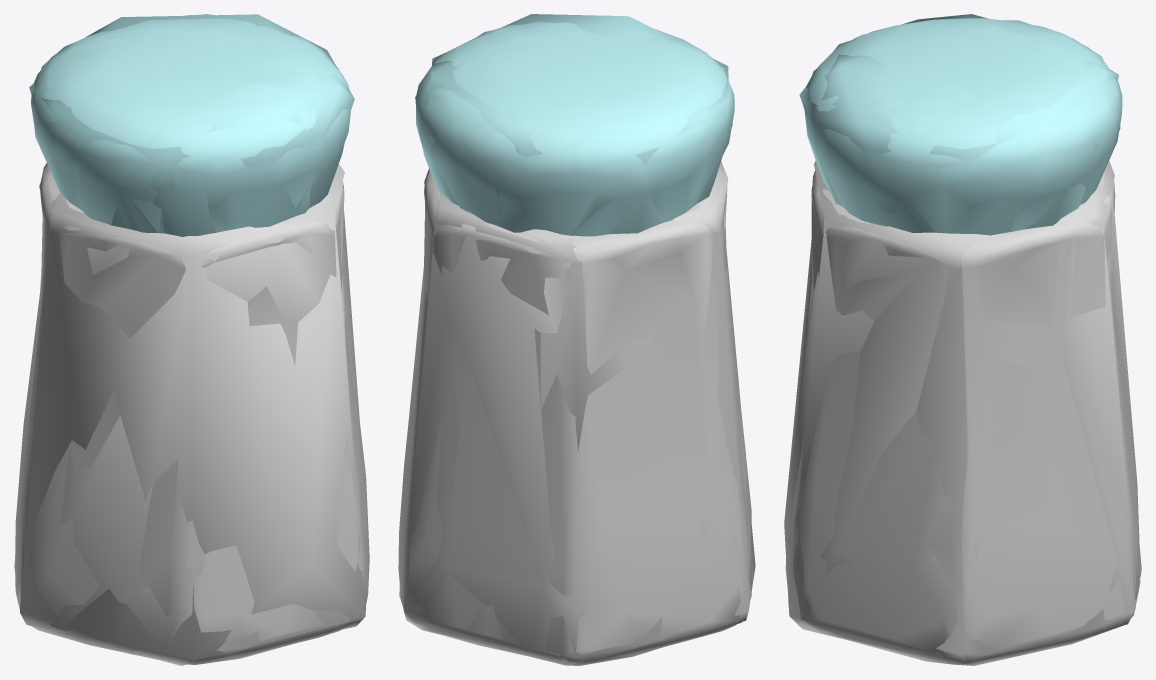
File: imp-jar-spice.glb
The picture shows the model from 3 angles, left to right: view 1: azimuth 30°, elevation 25°; view 2: azimuth 150°, elevation 25°; view 3: azimuth 270°, elevation 25°; orthographic projection.
Visible parts, largest first — view 1: Kerbside_metres_ground_pivot (×3); view 2: Kerbside_metres_ground_pivot (×3); view 3: Kerbside_metres_ground_pivot (×3).
Part boxes in pixels (x1,y1,x2,y2): Kerbside_metres_ground_pivot (×3): [14, 14, 369, 665]; Kerbside_metres_ground_pivot (×3): [398, 14, 755, 665]; Kerbside_metres_ground_pivot (×3): [784, 14, 1141, 665].
Bounding box in the file's own units: 0.0734 × 0.11 × 0.0658.
